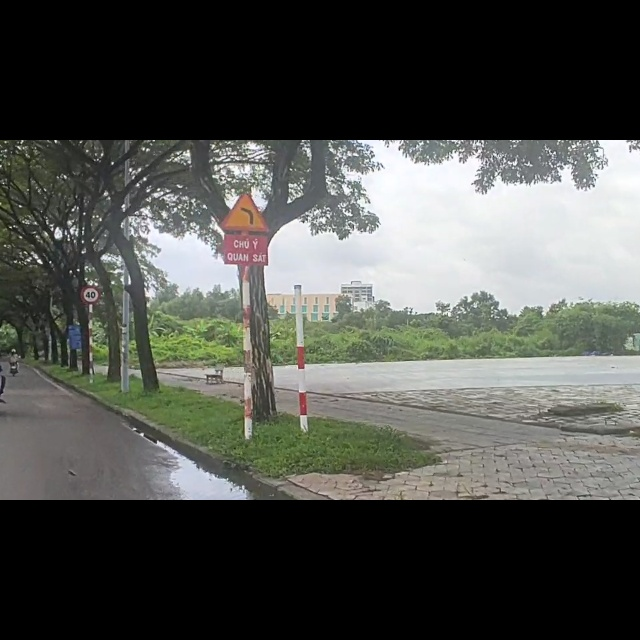bien_nguy_hiem: (220, 90, 273, 166), (81, 256, 101, 292)
